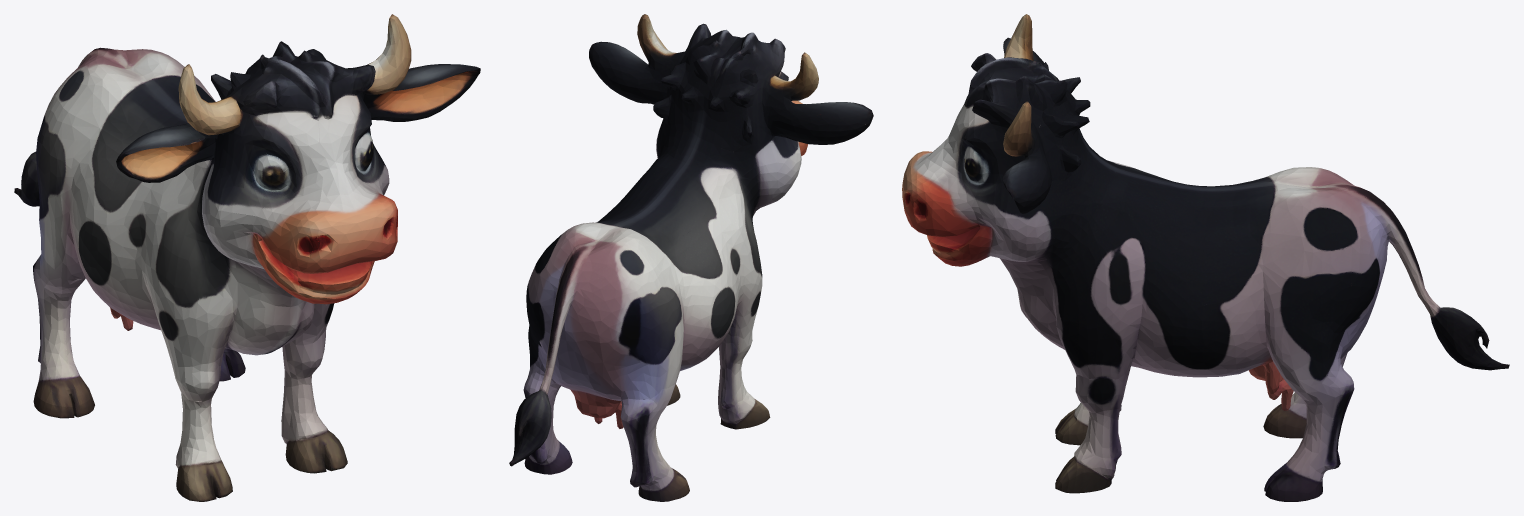
File: cow.glb
3 views of the same model, side by side, from view 1: azimuth 30°, elevation 25°; view 2: azimuth 150°, elevation 25°; view 3: azimuth 270°, elevation 25° (orthographic). The views are drawn at different scales.
Visible parts, largest first — view 1: world; view 2: world; view 3: world.
Part boxes in pixels (left/top/right/bottom): world: left=14, top=14, right=480, bottom=501; world: left=509, top=14, right=873, bottom=501; world: left=902, top=14, right=1509, bottom=501.
Bounding box in the file's own units: 0.605 × 0.7291 × 0.9996.
1 material, 1 textured.
